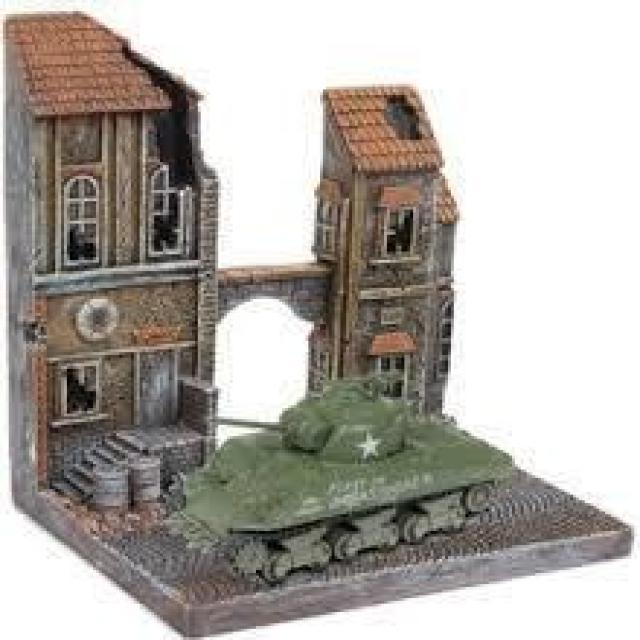MIL_MBT: (179, 377, 522, 581)
